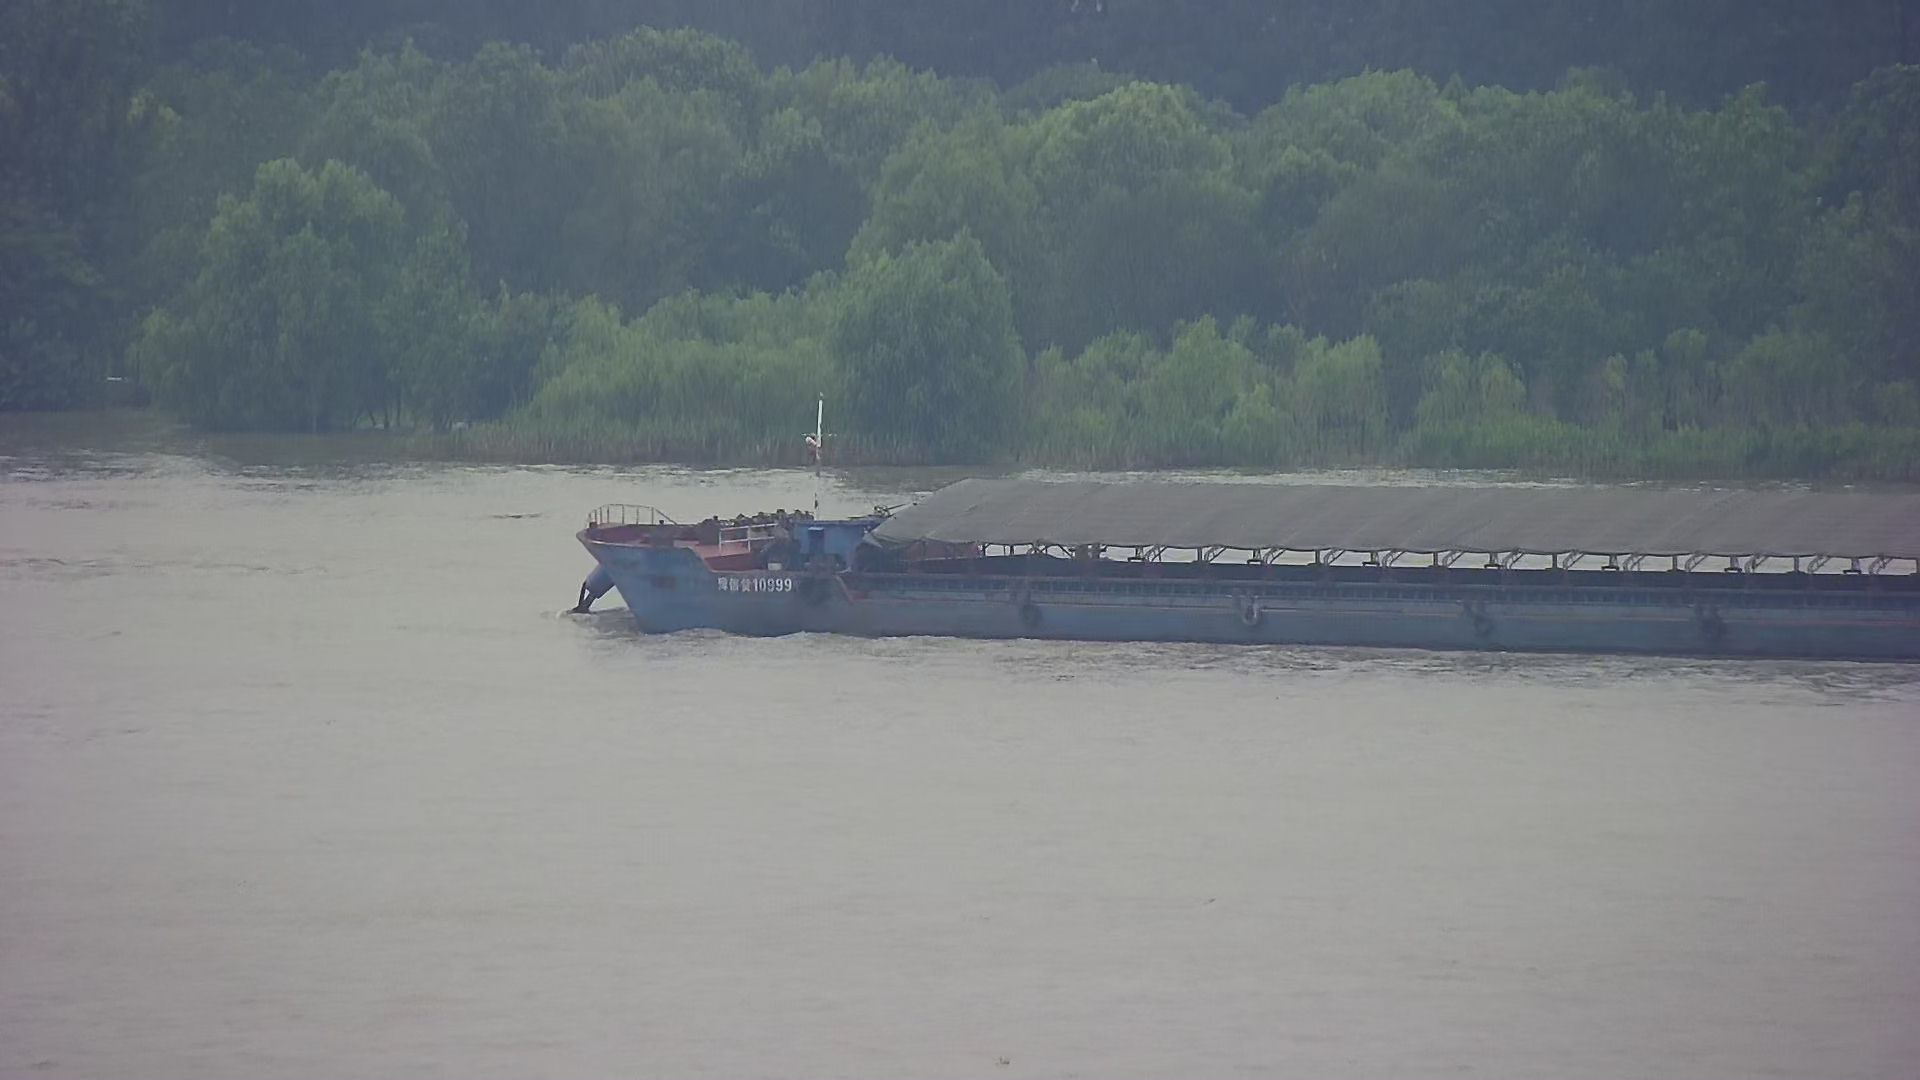ship: (543, 376, 1920, 683)
